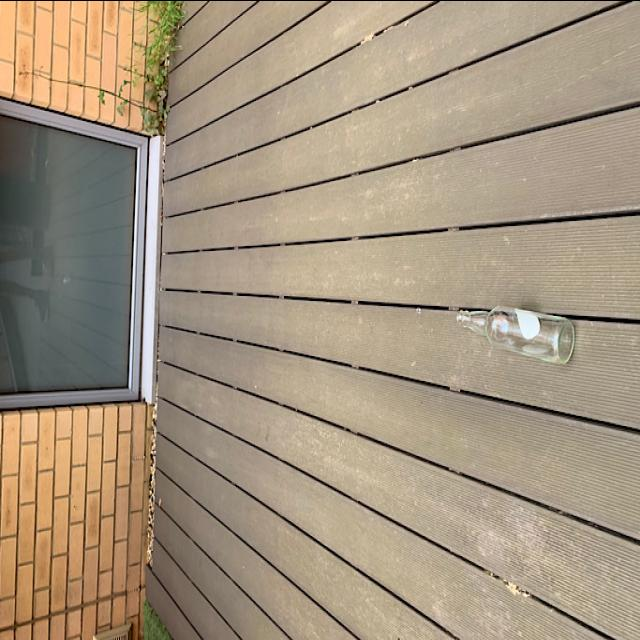Glass Bottle: (454, 300, 580, 372)
